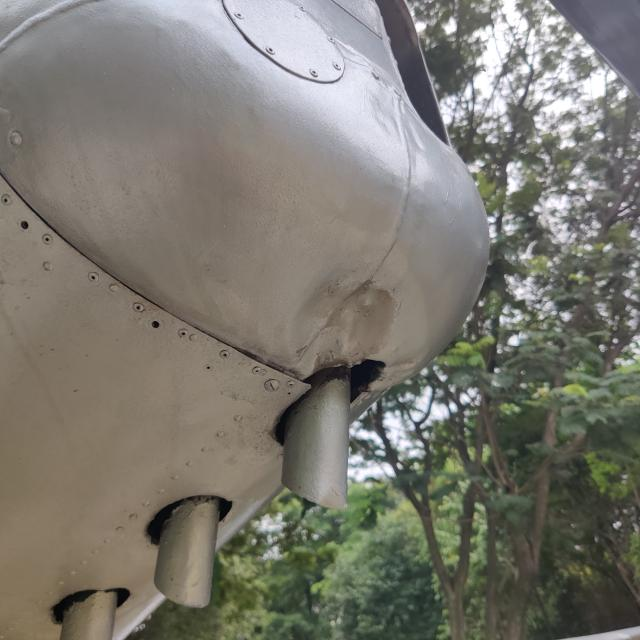dent: (271, 254, 420, 386), (386, 348, 425, 384)
